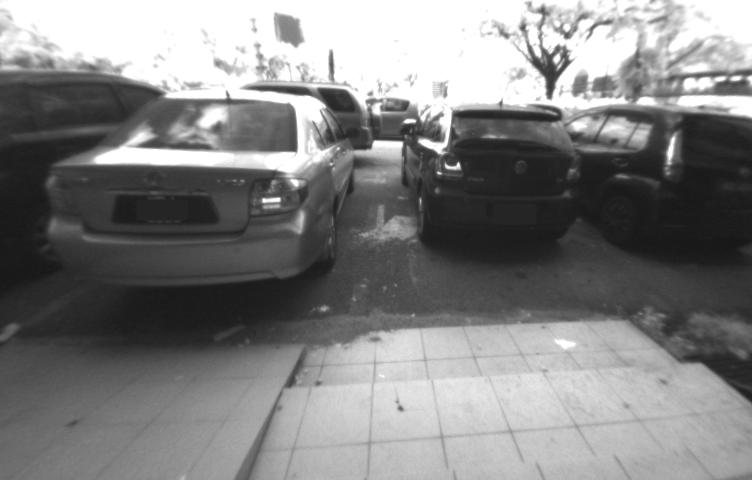down_steps: (257, 310, 741, 480)
mixed_gradient: (177, 331, 349, 480)
uncovered_drainage: (678, 333, 752, 409)
